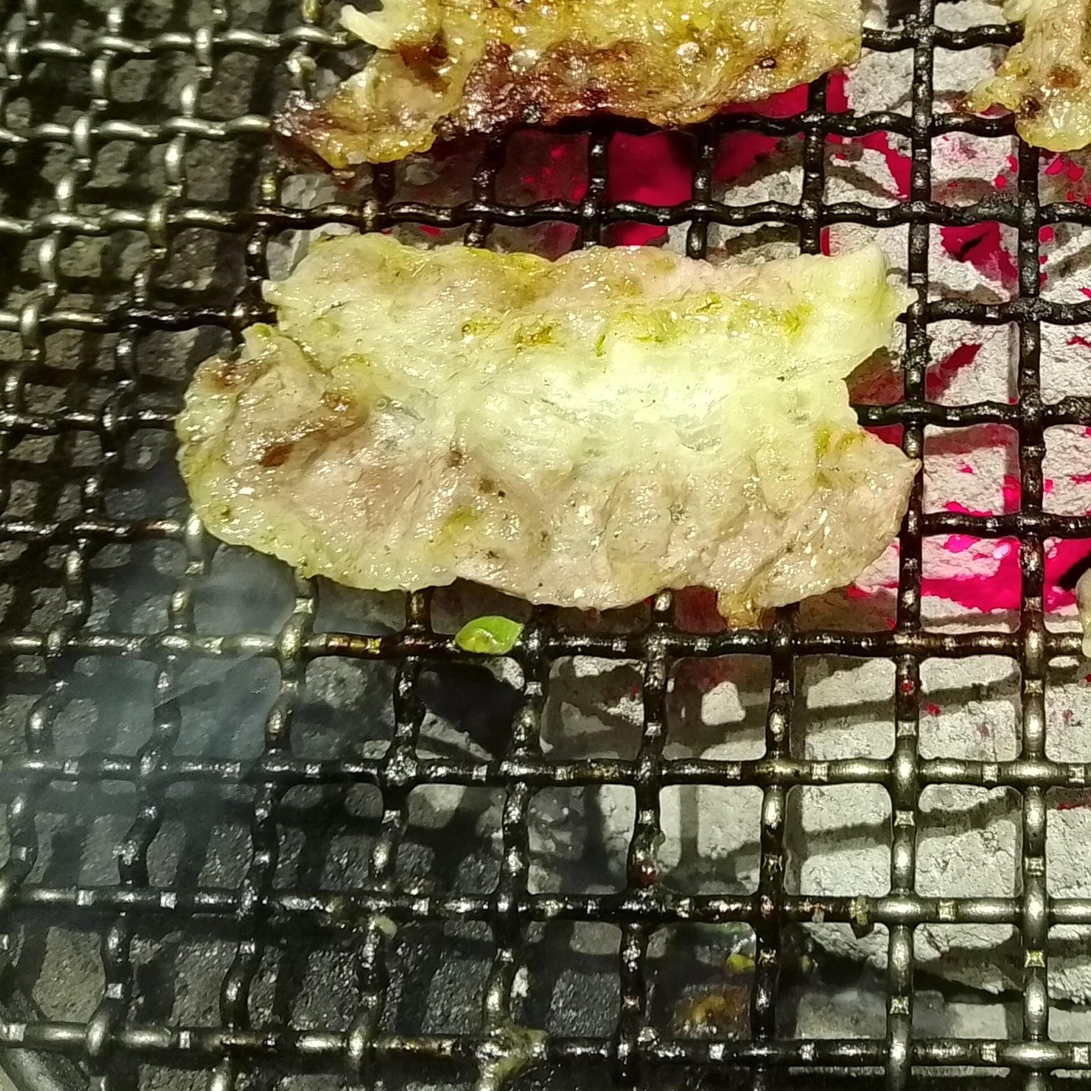Well-Cooked: (177, 234, 915, 625)
